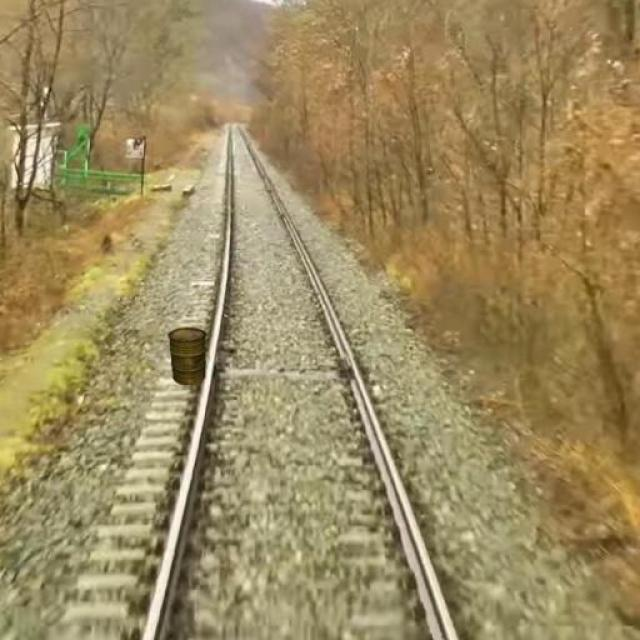Other_objects: (166, 325, 224, 390)
